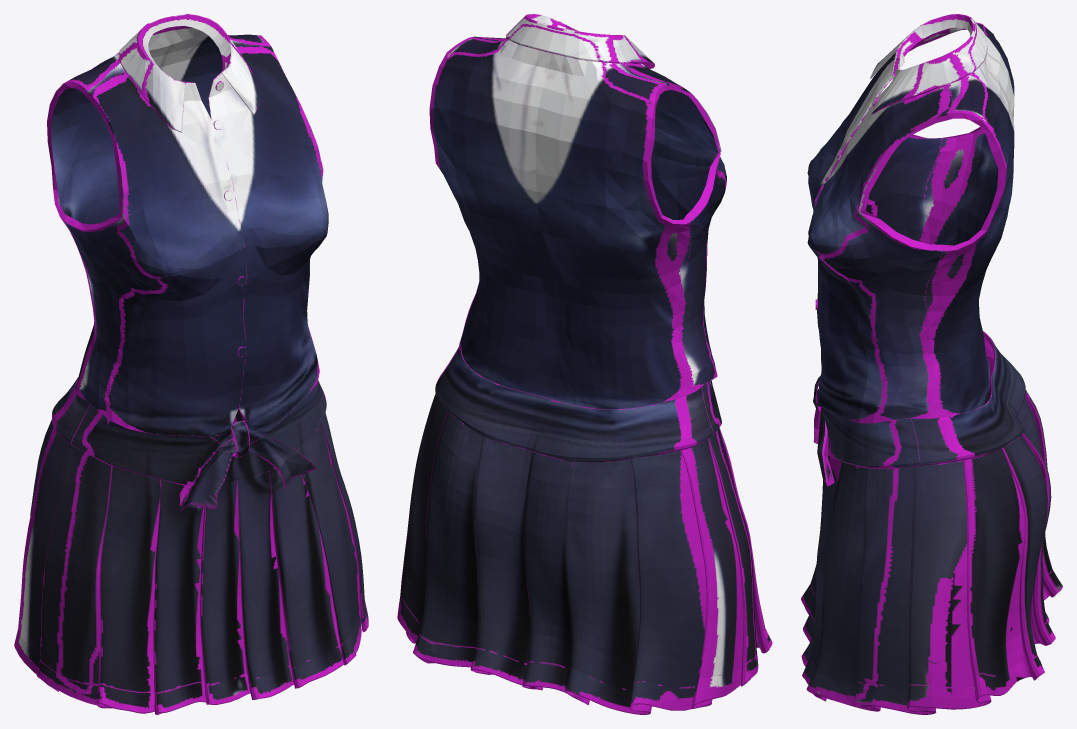
3 views of the same model, side by side, from view 1: azimuth 30°, elevation 25°; view 2: azimuth 150°, elevation 25°; view 3: azimuth 270°, elevation 25° (orthographic). The views are drawn at different scales.
Size of the model in its own units: 0.4366 by 0.8268 by 0.3113.
Materials: 1 (1 with a texture image).
